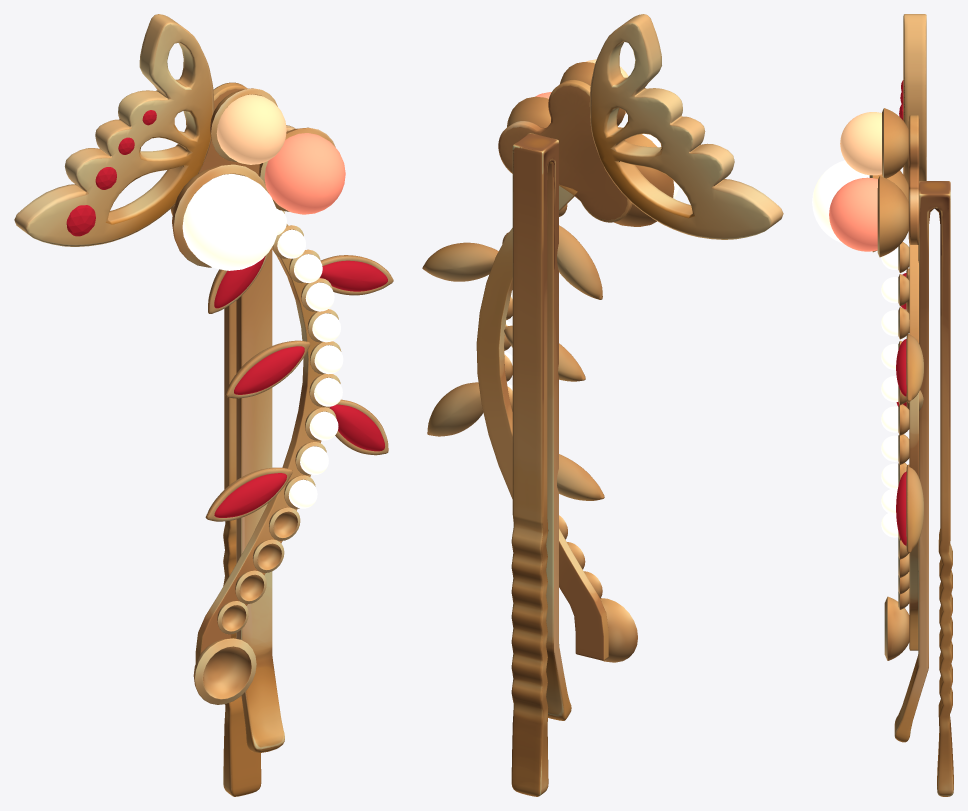
3 renders of one model, left to right at view 1: azimuth 30°, elevation 25°; view 2: azimuth 150°, elevation 25°; view 3: azimuth 270°, elevation 25°, orthographic. The views are drawn at different scales.
Parts seen in each view (by area): view 1: hairakuse; view 2: hairakuse; view 3: hairakuse.
Boxes of the visible parts, x1,y1,x2,y2 form: hairakuse: (14,14,393,796); hairakuse: (422,14,783,796); hairakuse: (812,14,953,796).
Size of the model in its own units: 72.64 by 152 by 26.6.
